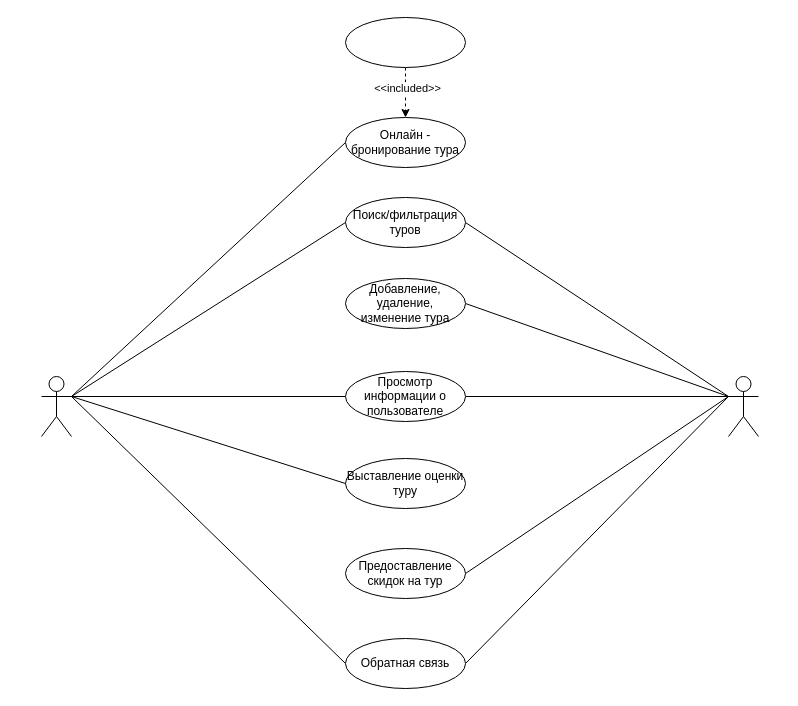
The diagram is 798 pixels wide and 706 high, and some of its shapes have lost their labels. The shapes that lost their labels are listed below. From the top down, each one's centre as x and y in pixels, then its label:
At [405,42]: "Выбор отеля на время путешествия".
At [56,406]: "Пользователь".
At [743,406]: "Тур-оператор".
